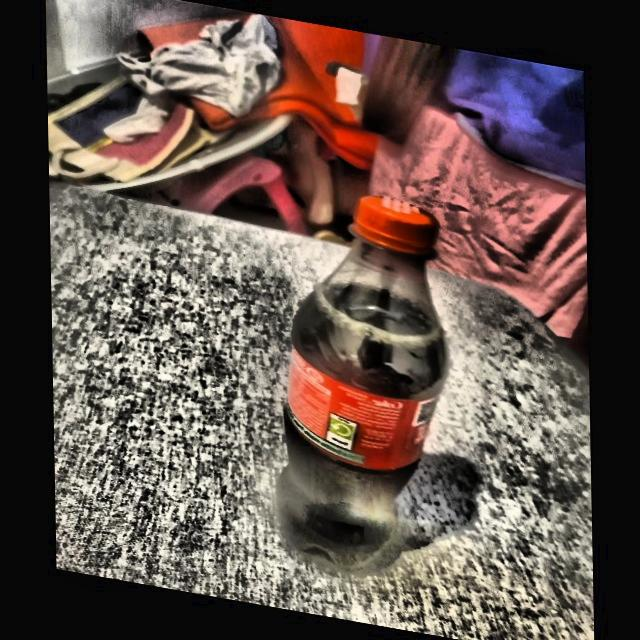coke-bottle: (282, 198, 454, 568)
